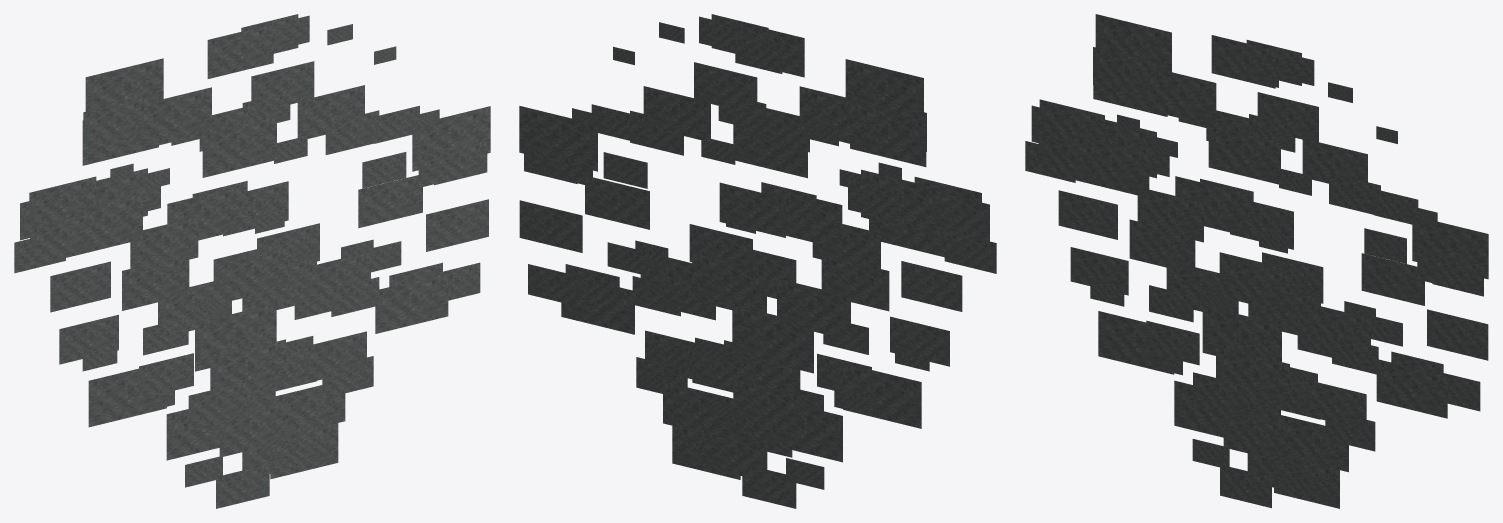
Rendered from PZ_ALP_08_Crust_Lichen_GroundPatch.glb.
3 renders of one model, left to right at view 1: azimuth 30°, elevation 25°; view 2: azimuth 150°, elevation 25°; view 3: azimuth 330°, elevation 25°, orthographic. The views are drawn at different scales.
Parts seen in each view (by area): view 1: Lichen_Crust_Plane_Decals_NoCollision; view 2: Lichen_Crust_Plane_Decals_NoCollision; view 3: Lichen_Crust_Plane_Decals_NoCollision.
Part boxes in pixels (box(x1,y1,x2,y2)): Lichen_Crust_Plane_Decals_NoCollision: box(14, 14, 490, 508); Lichen_Crust_Plane_Decals_NoCollision: box(519, 14, 996, 508); Lichen_Crust_Plane_Decals_NoCollision: box(1025, 14, 1488, 508).
Size of the model in its own units: 1.1 by 1.05 by 0.00775.
Materials: 1 (1 with a texture image).
